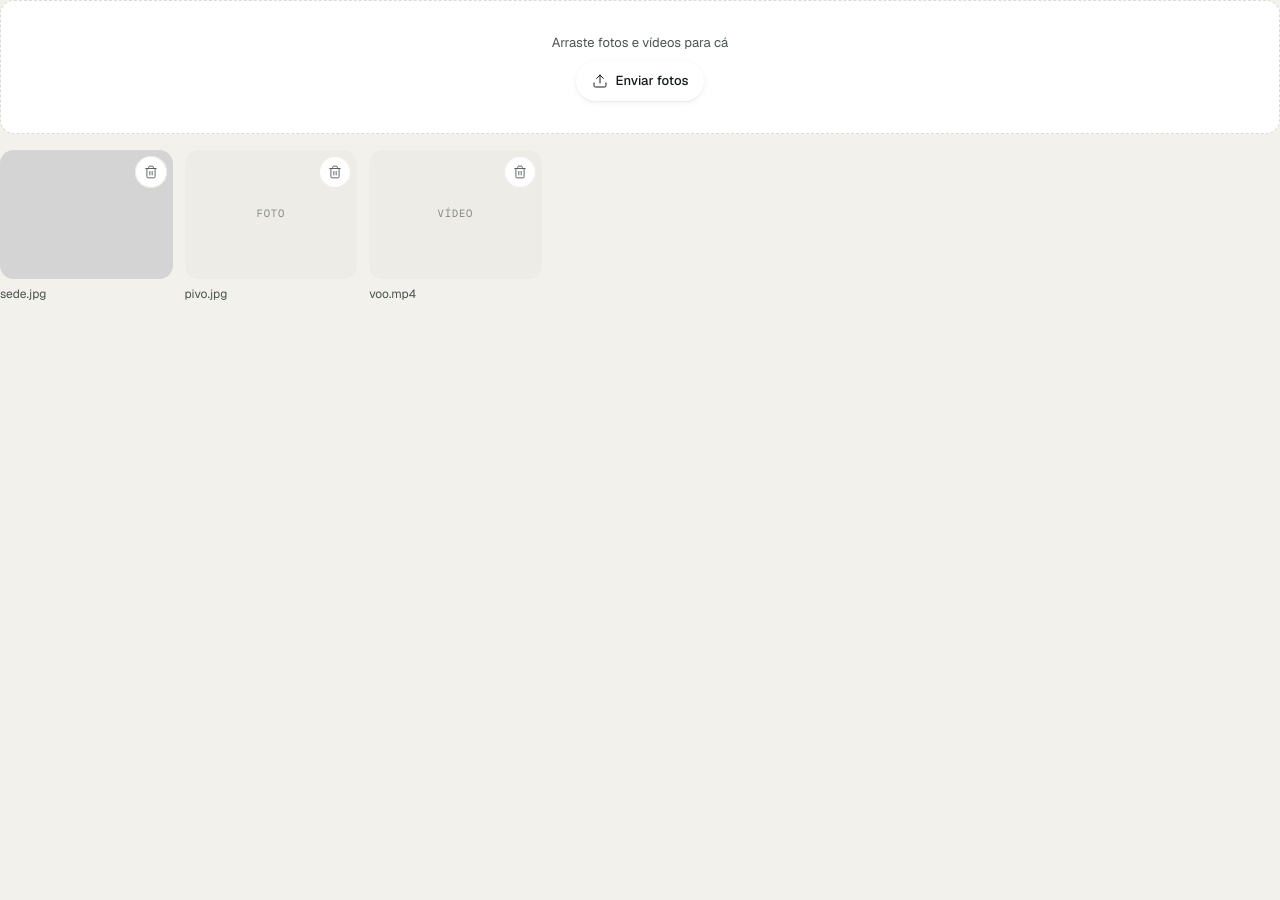
it: MediaUploader — mídia enviada › remove só depois de confirmar
Click the button named "Remover pivo.jpg".
click(335, 172)  # box [319,156,351,188]
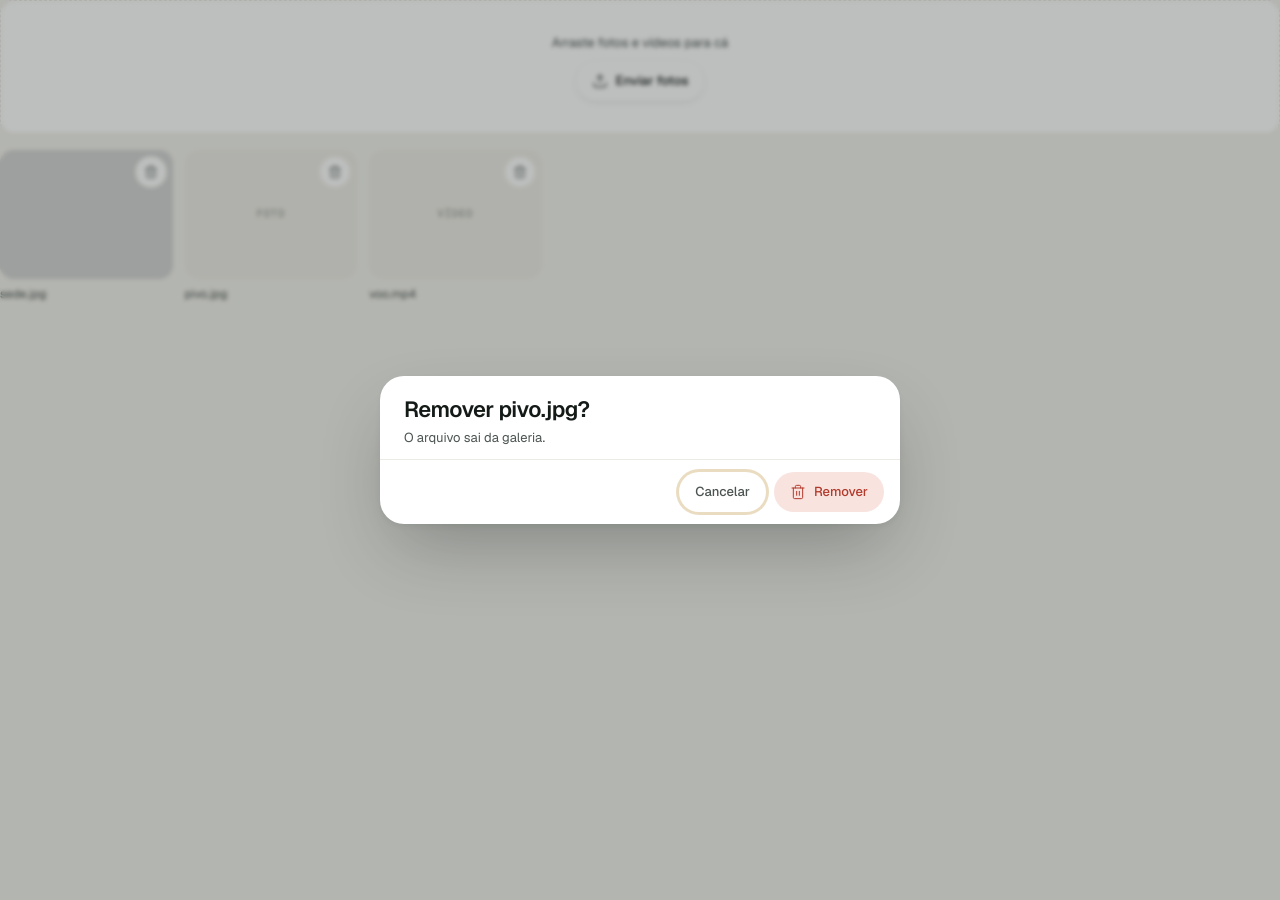
Click the button "Cancelar".
click(723, 492)  # box [679,472,766,512]
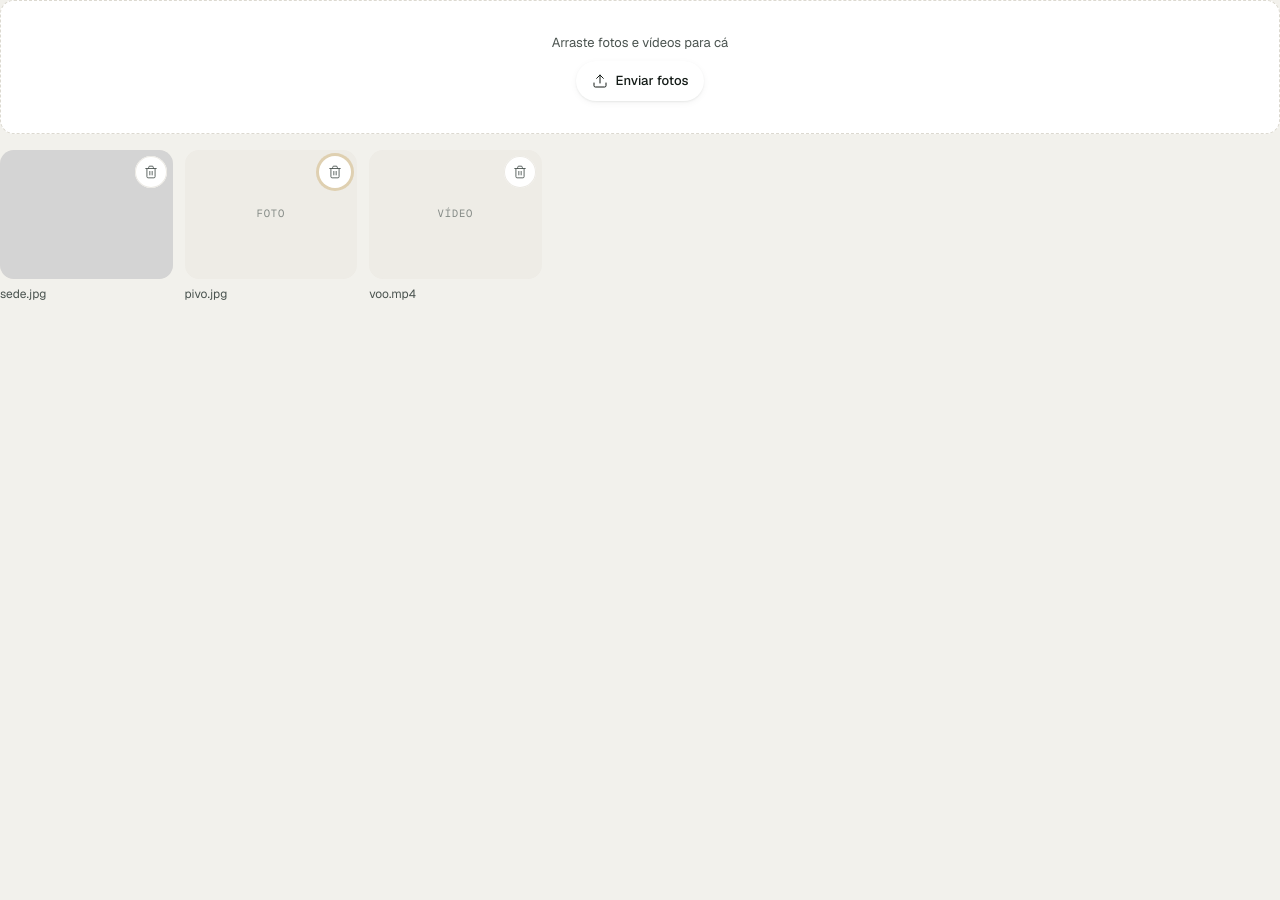
Click the button named "Remover pivo.jpg".
click(335, 172)  # box [319,156,351,188]
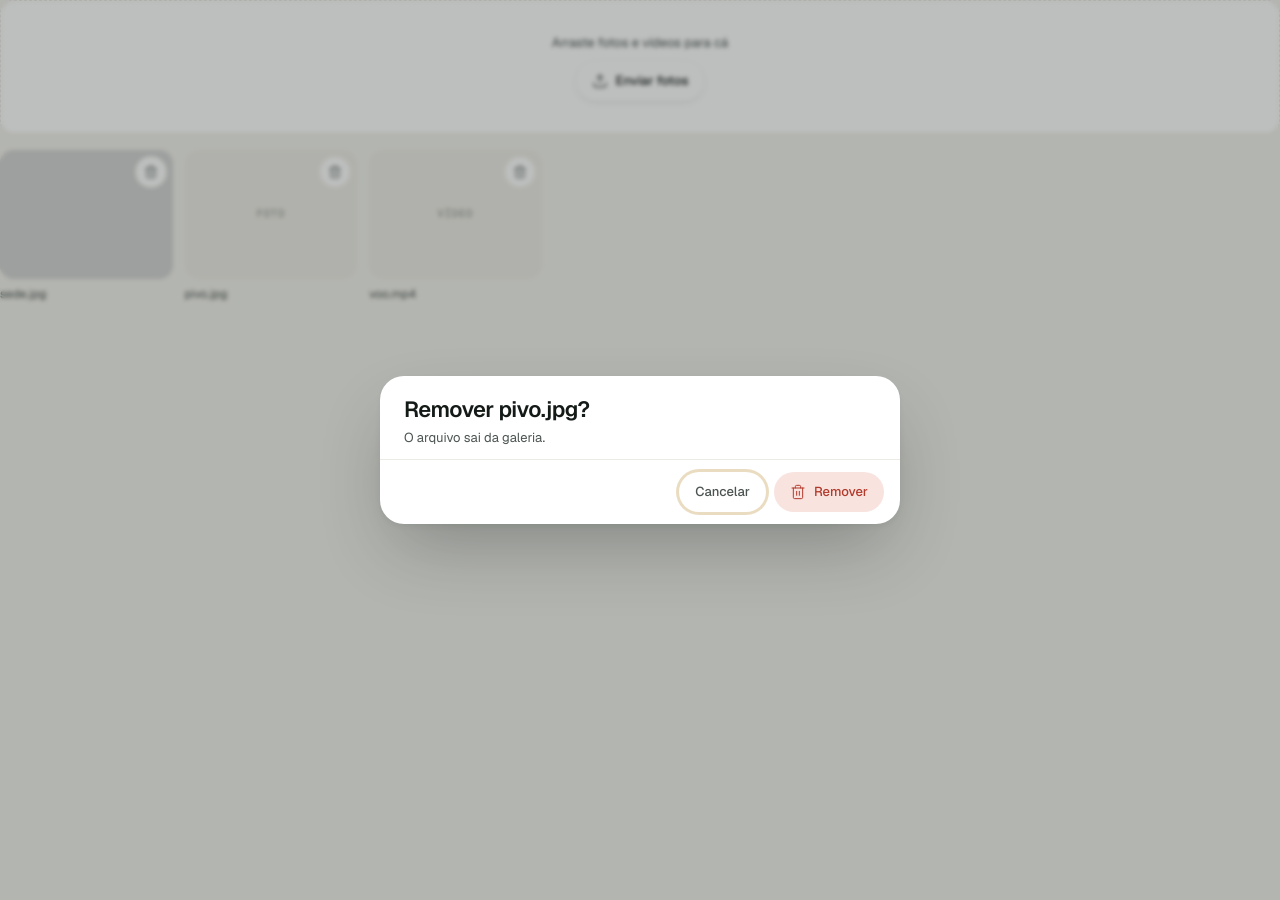
Click the button "Remover".
click(829, 492)  # box [774,472,884,512]
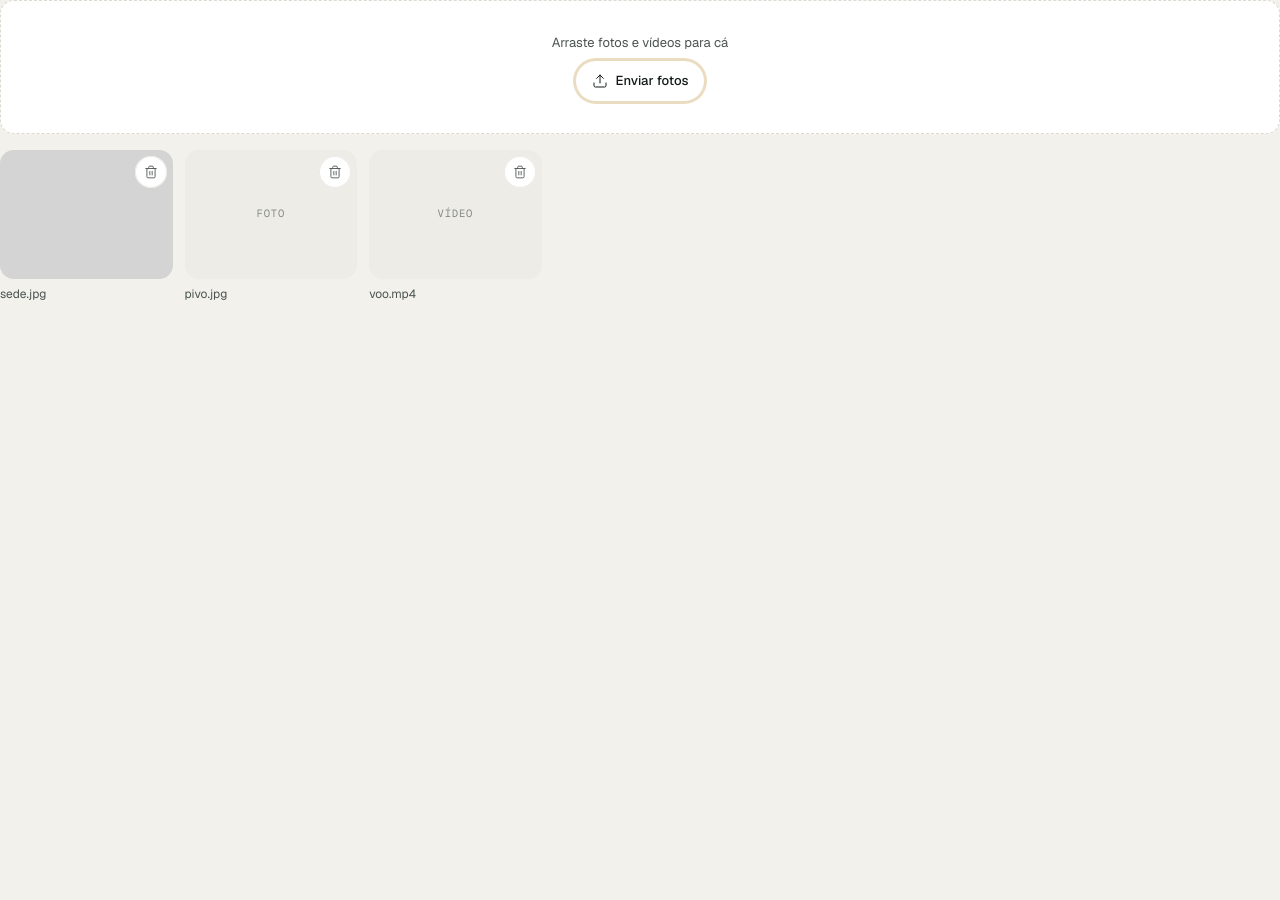
Expected: the dialog is gone
